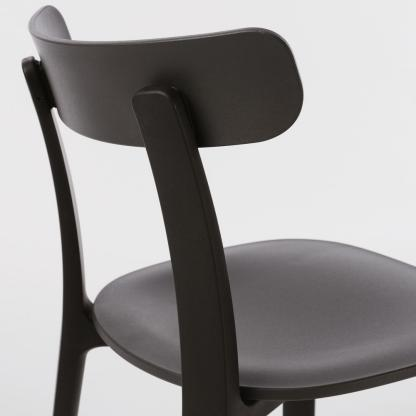chair: (23, 6, 416, 416)
